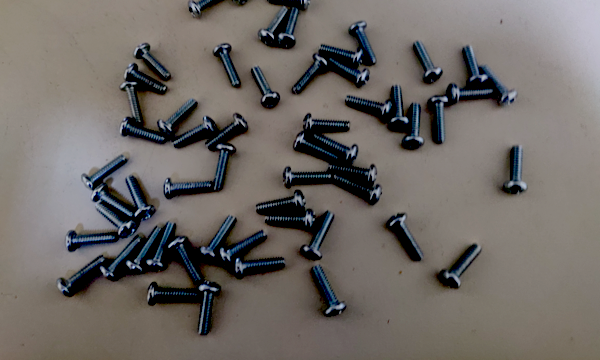shortscrew: (440, 242, 483, 291), (56, 256, 105, 298), (99, 237, 143, 282), (387, 212, 425, 262), (125, 225, 163, 274), (312, 265, 347, 318), (301, 209, 335, 261), (167, 235, 203, 284), (200, 214, 237, 261), (219, 230, 267, 266), (81, 155, 128, 190), (480, 64, 518, 107), (292, 53, 330, 96), (144, 221, 177, 270), (158, 98, 199, 137), (205, 113, 248, 150), (171, 116, 218, 149), (332, 174, 383, 204), (133, 41, 171, 81), (312, 134, 359, 166), (293, 133, 339, 164), (91, 184, 134, 217), (327, 56, 371, 88), (96, 203, 136, 238), (119, 117, 167, 146), (126, 174, 155, 222), (412, 40, 443, 83), (349, 20, 378, 65), (255, 189, 307, 214), (212, 44, 241, 88), (125, 64, 169, 93), (258, 6, 289, 47), (252, 65, 281, 108), (212, 143, 237, 191), (66, 230, 118, 253), (147, 283, 199, 306), (199, 283, 221, 336), (402, 102, 426, 150), (463, 45, 489, 89), (283, 166, 332, 189), (265, 209, 316, 231), (345, 96, 393, 119), (319, 44, 365, 68), (505, 145, 527, 195), (164, 178, 212, 200), (235, 257, 285, 278), (303, 113, 352, 134), (119, 81, 142, 125), (328, 165, 378, 185), (429, 96, 450, 143), (277, 7, 300, 49), (445, 83, 494, 102), (390, 85, 410, 131), (189, 0, 231, 18), (267, 0, 311, 11), (217, 0, 248, 6)
